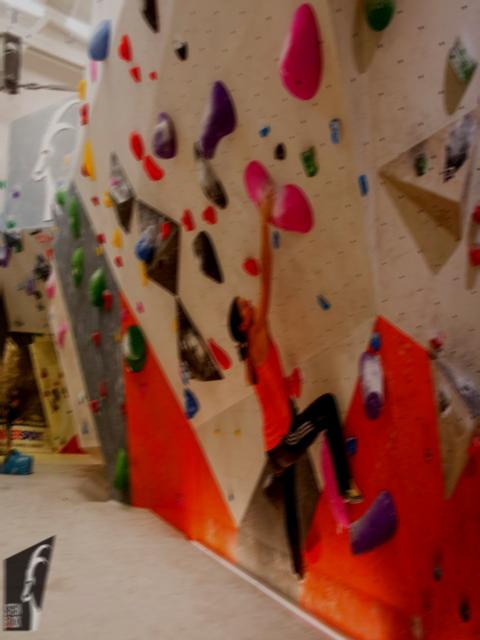crimp: (300, 145, 318, 177), (173, 40, 187, 60), (369, 331, 380, 351), (317, 294, 329, 310), (160, 220, 170, 239), (274, 142, 285, 159), (359, 175, 367, 195), (259, 125, 269, 136)
jib: (235, 428, 239, 436), (215, 427, 219, 435), (229, 492, 232, 500)
jug: (129, 131, 143, 159), (243, 259, 259, 275), (202, 205, 216, 223)
ledge: (429, 330, 444, 350)
pinch: (447, 35, 476, 85), (437, 385, 450, 412), (272, 230, 278, 249)
sidepull: (194, 141, 227, 209), (143, 156, 163, 180), (330, 118, 339, 143)
sloper: (244, 161, 313, 232), (279, 3, 322, 99), (349, 489, 398, 555), (197, 80, 236, 159), (359, 351, 383, 419), (151, 113, 176, 158)
undercling: (184, 387, 199, 419)
volume: (378, 106, 480, 239), (429, 355, 480, 499), (136, 200, 180, 295), (176, 298, 223, 380), (109, 153, 135, 232)
